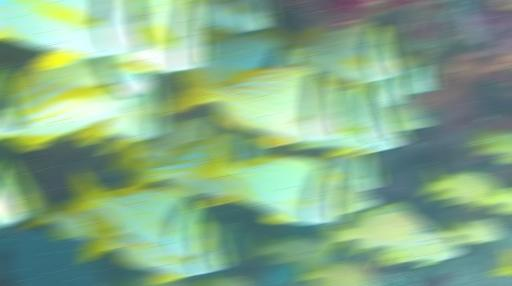Fish: (167, 66, 344, 146), (193, 132, 344, 224), (7, 59, 158, 149), (65, 170, 216, 255), (0, 0, 154, 68), (80, 215, 229, 282), (71, 82, 168, 161), (110, 138, 235, 197), (293, 90, 406, 155), (289, 23, 404, 84), (117, 0, 208, 71), (198, 29, 299, 84), (324, 210, 433, 255), (348, 201, 433, 257), (137, 117, 224, 163), (333, 88, 402, 142), (420, 167, 501, 206), (24, 196, 95, 240), (372, 231, 461, 266), (292, 130, 407, 156), (0, 156, 38, 228), (194, 0, 275, 32), (326, 75, 411, 105), (252, 236, 335, 266), (314, 153, 381, 190), (209, 224, 256, 267), (0, 66, 29, 135), (299, 262, 378, 285), (440, 220, 503, 244), (334, 183, 377, 214), (371, 74, 412, 105), (386, 105, 433, 129), (403, 61, 438, 92), (469, 131, 511, 155), (206, 276, 244, 285), (132, 273, 157, 285), (490, 270, 511, 280), (496, 197, 511, 205)
